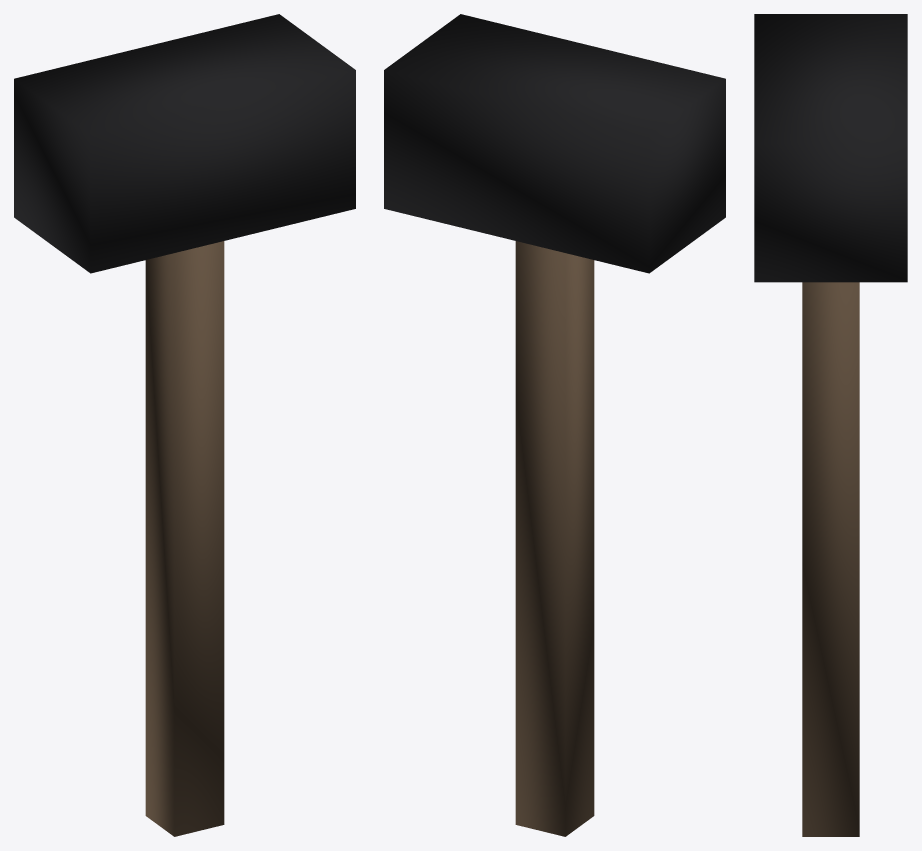
The model's file is m_mailbox.fbx.
The picture shows the model from 3 angles, left to right: view 1: azimuth 30°, elevation 25°; view 2: azimuth 150°, elevation 25°; view 3: azimuth 270°, elevation 25°; orthographic projection.
Visible parts, largest first — view 1: m_mailbox; view 2: m_mailbox; view 3: m_mailbox.
Boxes of the visible parts, x1=… form: m_mailbox: x1=14, y1=14, x2=355, y2=836; m_mailbox: x1=384, y1=14, x2=725, y2=836; m_mailbox: x1=754, y1=14, x2=907, y2=836.
Size of the model in its own units: 160 by 430 by 80.
